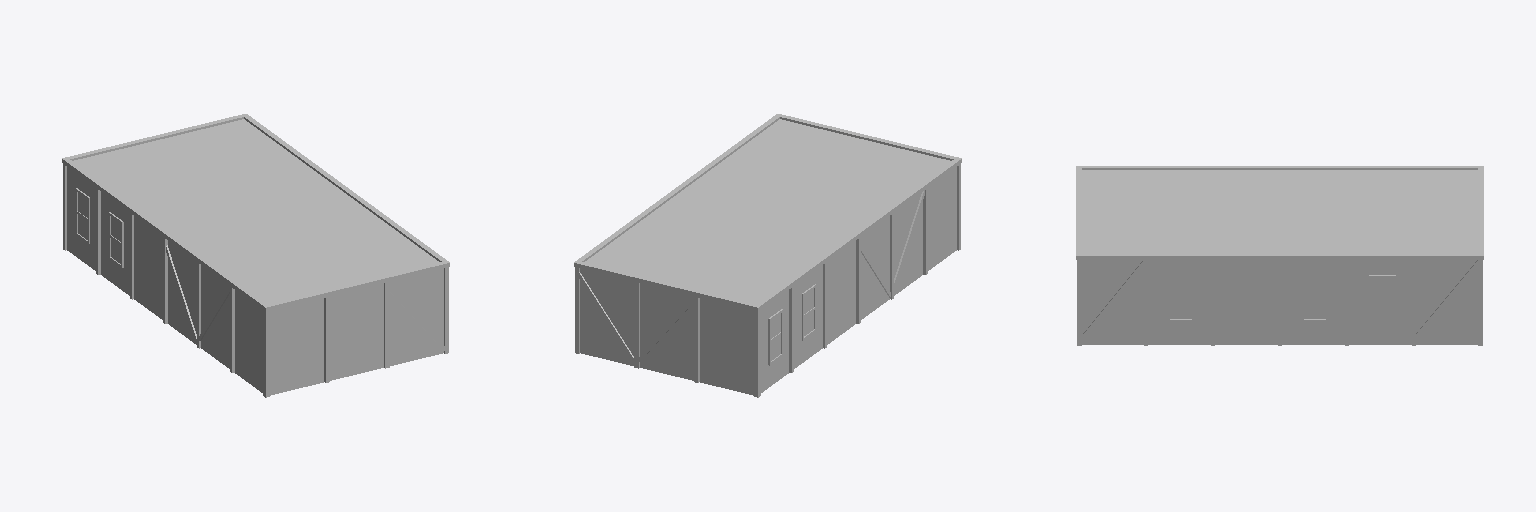
The picture shows the model from 3 angles: view 1: azimuth 30°, elevation 25°; view 2: azimuth 150°, elevation 25°; view 3: azimuth 270°, elevation 25°; orthographic projection.
Visible parts, largest first — view 1: buildingWalls, wood_Parts, default; view 2: buildingWalls, wood_Parts, default; view 3: buildingWalls, wood_Parts, default.
Boxes of the visible parts, box(x1,y1,x2,y2) form: buildingWalls: box(67, 119, 443, 395); wood_Parts: box(62, 114, 449, 397); default: box(78, 193, 120, 263); buildingWalls: box(580, 119, 956, 395); wood_Parts: box(574, 114, 961, 397); default: box(771, 289, 813, 360); buildingWalls: box(1082, 170, 1477, 344); wood_Parts: box(1076, 166, 1483, 345); default: box(1170, 278, 1392, 319).
Size of the model in its own units: 8.75 by 4.12 by 16.75.